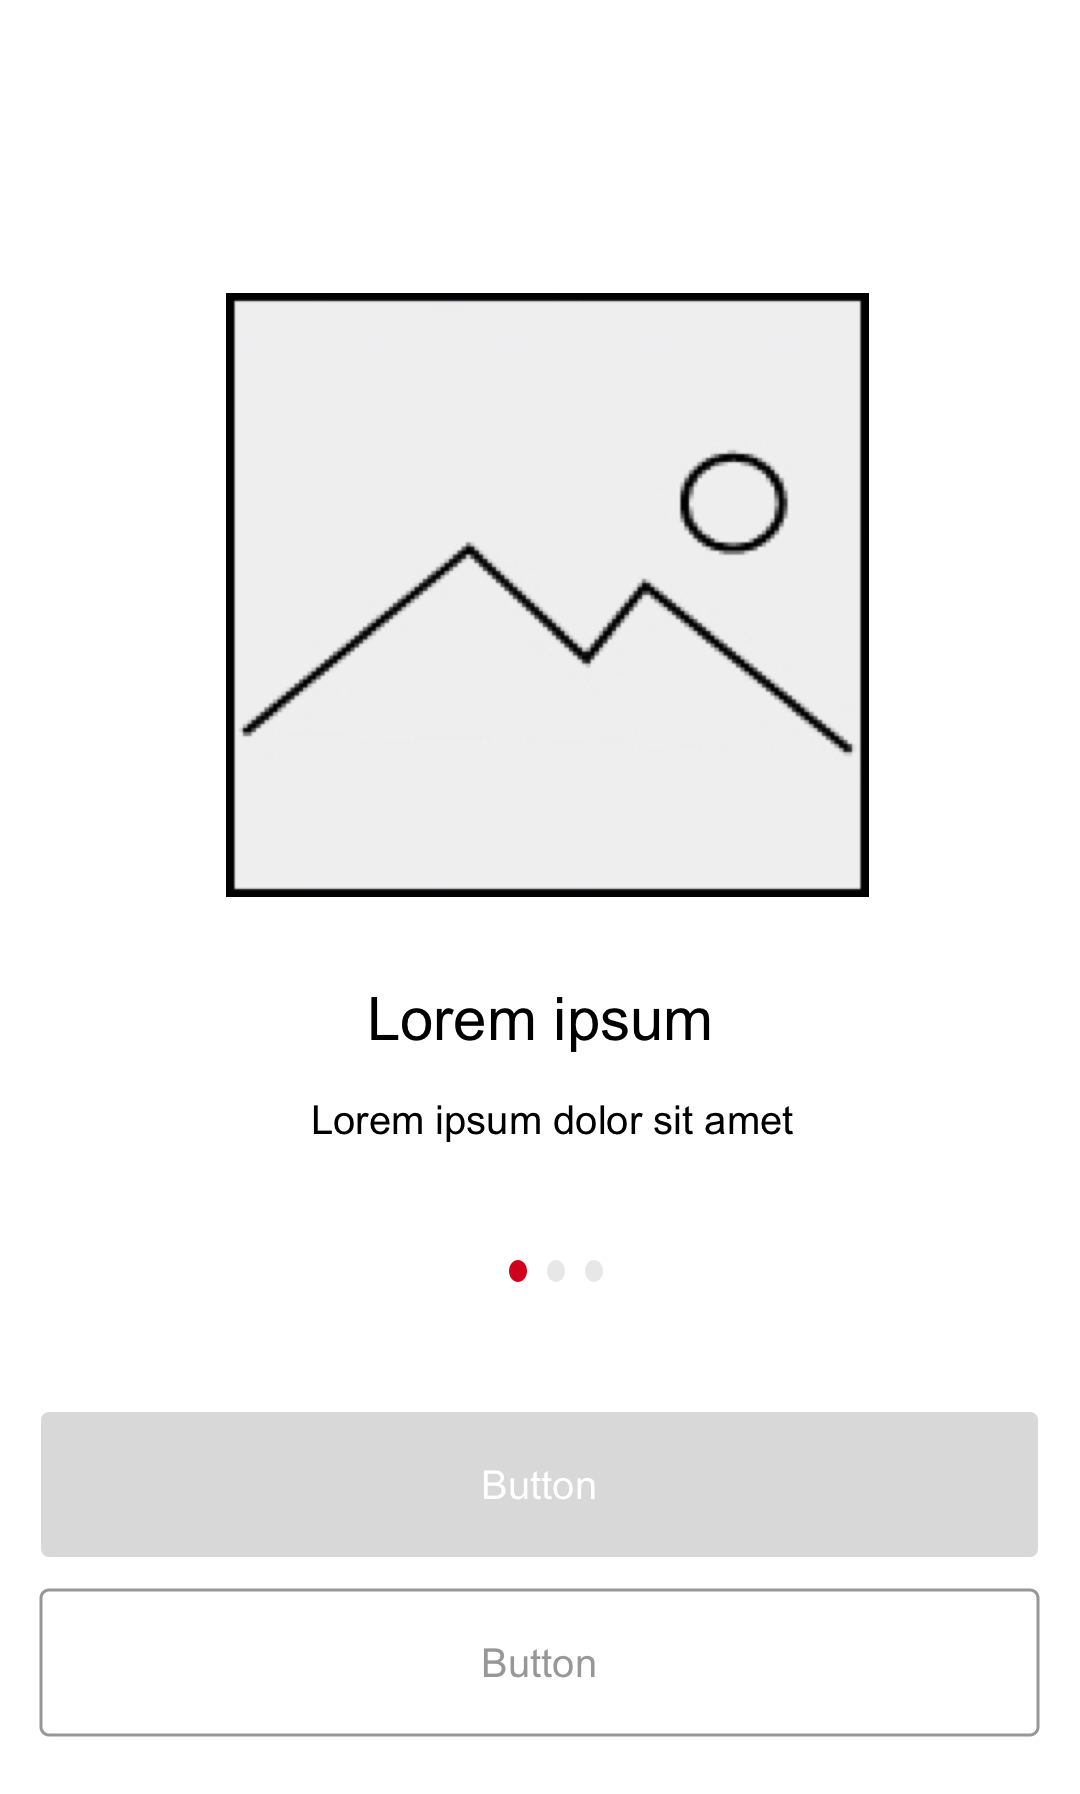Image: (225, 293, 870, 898)
PageIndicator: (509, 1258, 603, 1283)
Text: (372, 996, 710, 1053), (313, 1105, 794, 1143)
TextButton: (38, 1588, 1042, 1738), (41, 1411, 1039, 1558)
